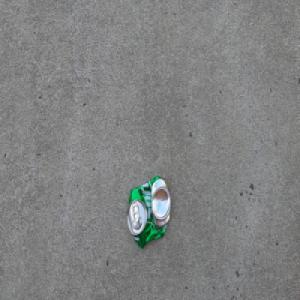SodaCan: (125, 174, 171, 249)
